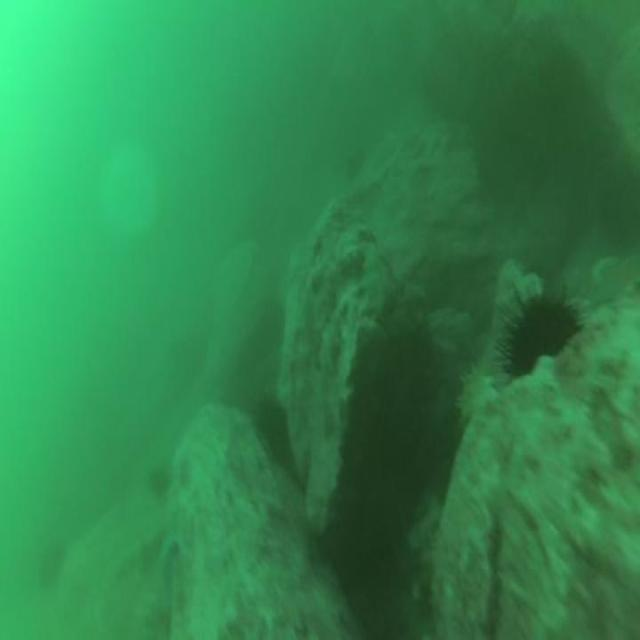echinus: (505, 297, 577, 371), (253, 402, 287, 454)
